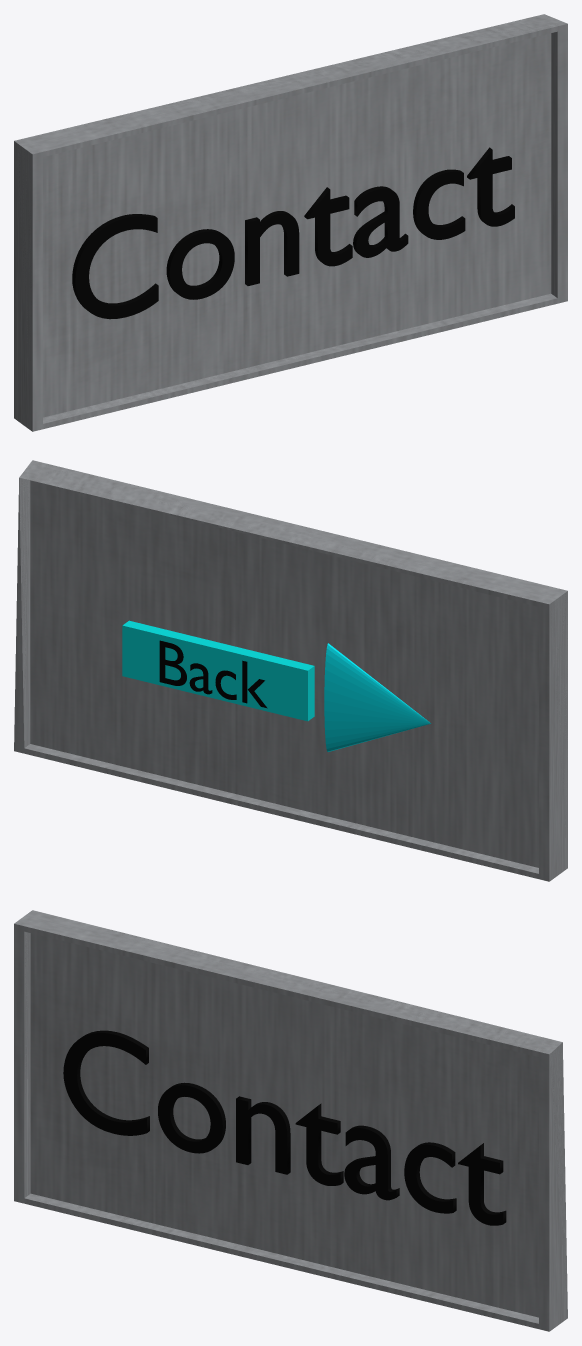
The model's file is Contact.glb.
3 renders of one model, top to bottom at view 1: azimuth 30°, elevation 25°; view 2: azimuth 150°, elevation 25°; view 3: azimuth 330°, elevation 25°, orthographic.
Visible parts, largest first — view 1: Cube, Text; view 2: Cube, Cube.001, Cone, Text.001; view 3: Cube, Text.
Boxes of the visible parts, x1,y1,x2,y2 form: Cube: [14, 14, 567, 431]; Text: [72, 147, 514, 319]; Cube: [14, 460, 567, 881]; Cube.001: [122, 620, 314, 721]; Cone: [324, 643, 430, 751]; Text.001: [159, 640, 267, 708]; Cube: [14, 910, 567, 1331]; Text: [63, 1030, 506, 1225].
Bounding box in the file's own units: 304 × 151 × 19.48.
4 materials, 1 textured.
